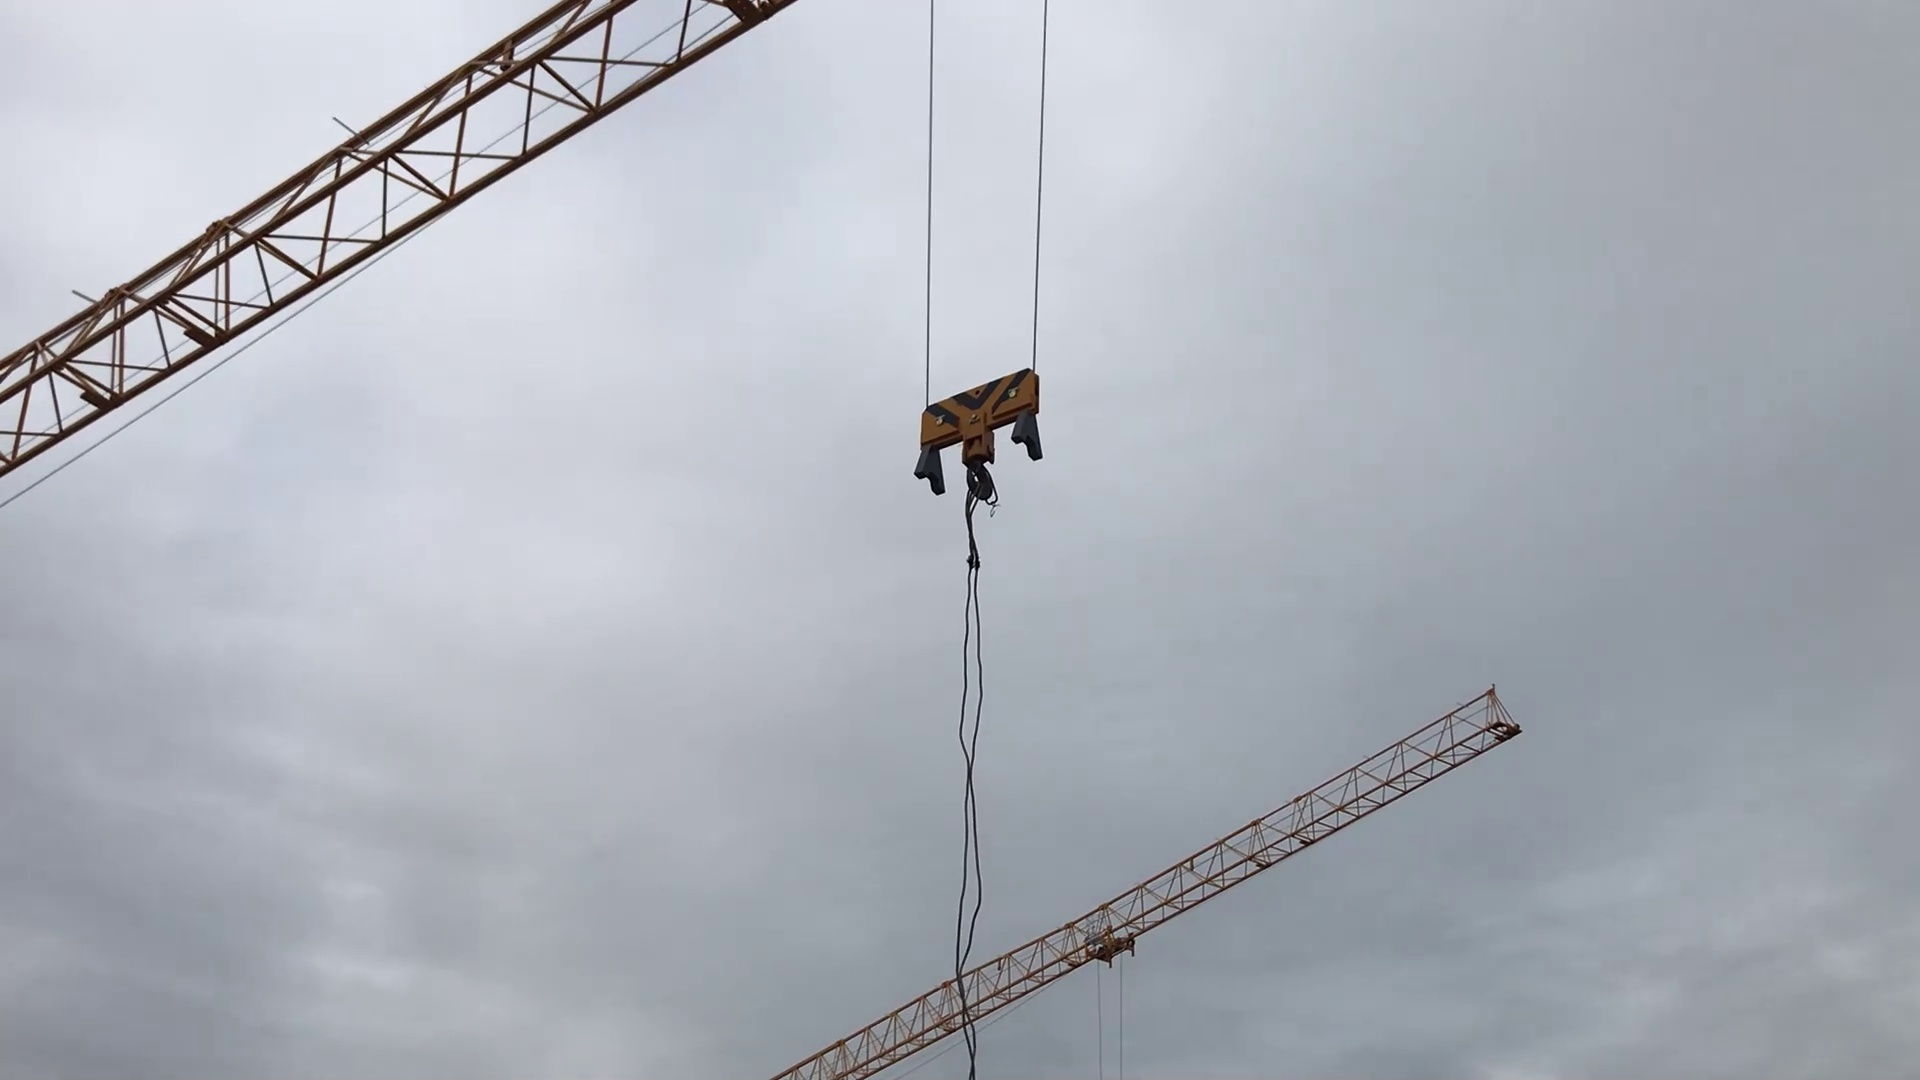hook: (909, 363, 1051, 518)
